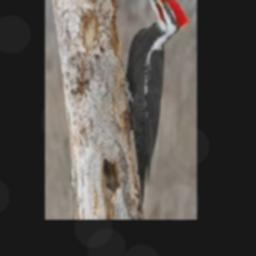Woodpecker: (125, 0, 190, 207)
